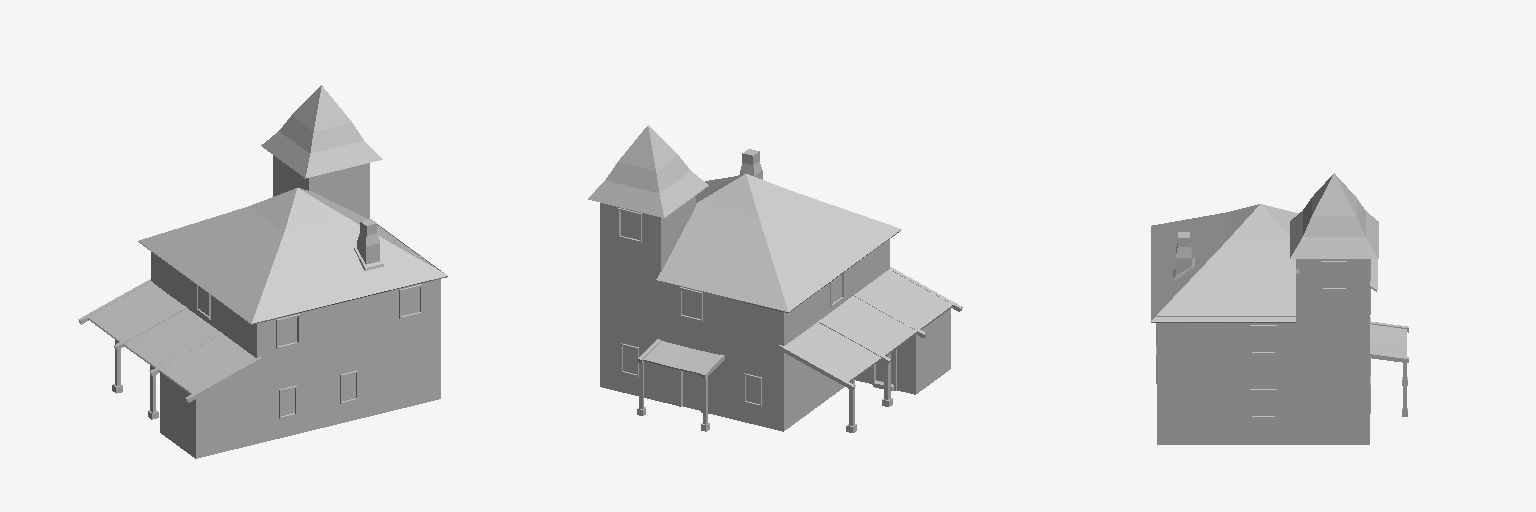
File: medieval_building_1.obj
3 renders of one model, left to right at view 1: azimuth 30°, elevation 25°; view 2: azimuth 150°, elevation 25°; view 3: azimuth 270°, elevation 25°, orthographic.
Visible parts, largest first — view 1: objbuilding_; view 2: objbuilding_; view 3: objbuilding_.
Part boxes in pixels (bbox=[...]): objbuilding_: bbox=[78, 85, 447, 458]; objbuilding_: bbox=[588, 125, 962, 432]; objbuilding_: bbox=[1151, 173, 1408, 444].
Bounding box in the file's own units: 42.92 × 40 × 36.59.